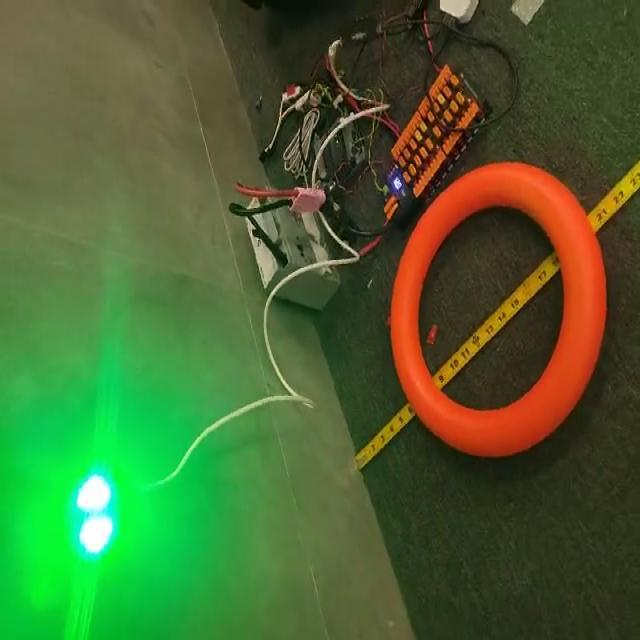note: (390, 162, 610, 459)
